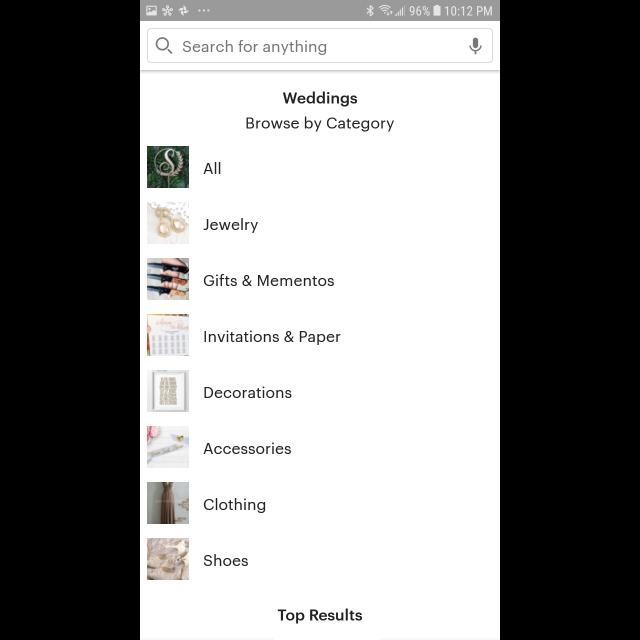icon: (156, 37, 172, 55), (468, 37, 482, 54)
image: (147, 538, 189, 580), (147, 482, 189, 524), (147, 426, 189, 468), (147, 370, 189, 412), (147, 314, 189, 356), (147, 258, 189, 300), (147, 202, 189, 244), (147, 146, 189, 188)
input: (147, 28, 493, 64)
text: (246, 116, 394, 132), (184, 40, 326, 56), (205, 330, 341, 346), (204, 274, 334, 286), (278, 608, 362, 624), (283, 92, 357, 108), (204, 442, 292, 454), (205, 386, 292, 398), (204, 498, 266, 514), (204, 218, 260, 234), (204, 554, 248, 566), (204, 162, 222, 174)
uppertaskbar: (140, 1, 500, 22)
